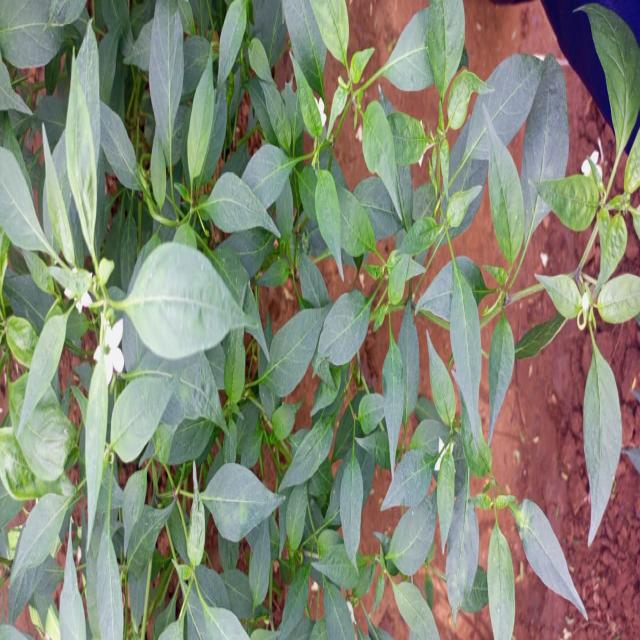Mosaic_virus: (1, 0, 640, 640)
